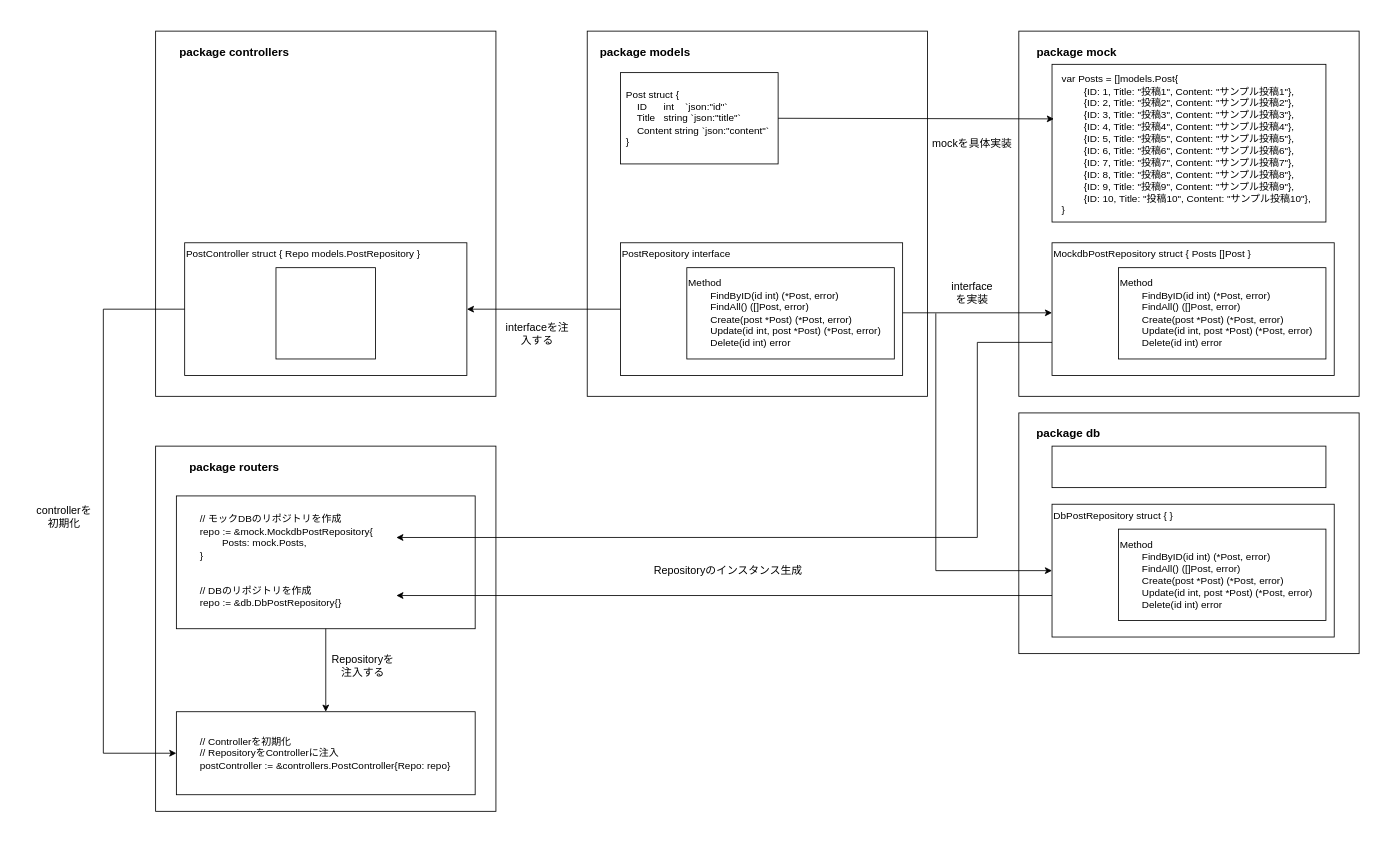
This 1398x842 diagram has some shape labels left out. Each missing label, with the centre of its shape:
"Method GetPostDetail GetPosts CreatePost UpdatePost DeletePost" goes at [325,313].
"Postテーブル" goes at [1188,466].
